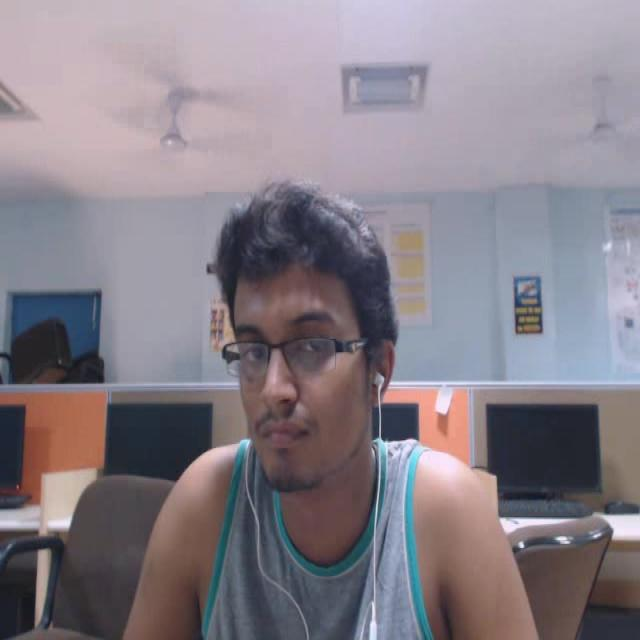Engaged: (206, 164, 415, 514)
